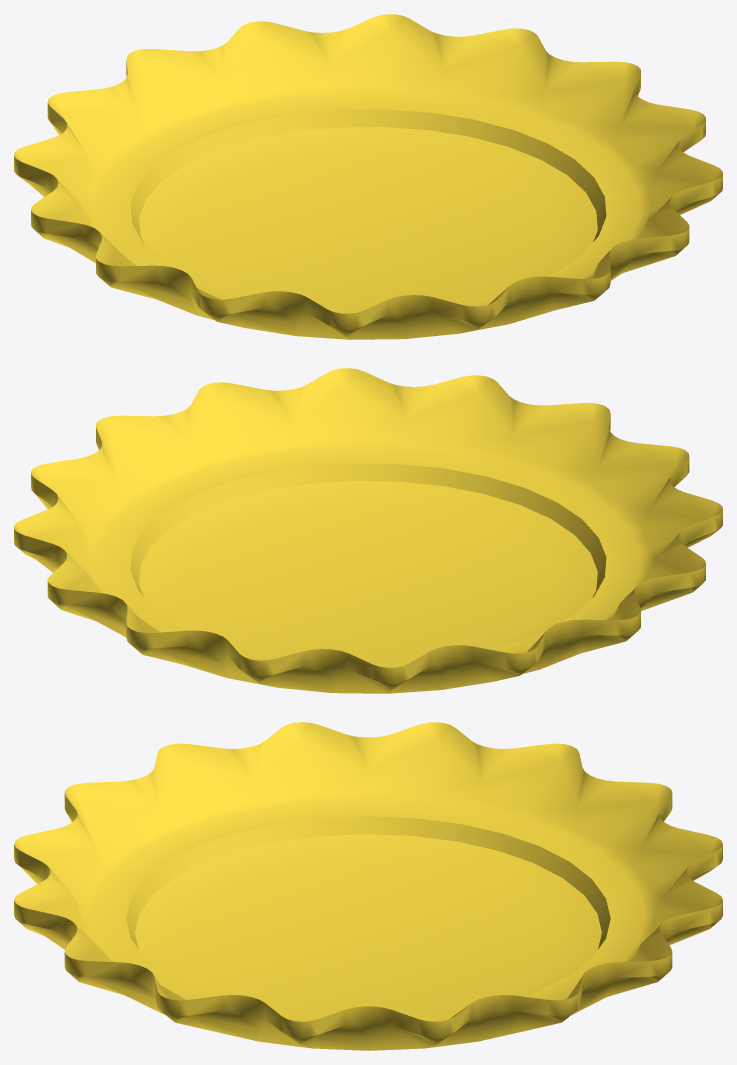
File: platoDescartable.fbx
3 renders of one model, top to bottom at view 1: azimuth 30°, elevation 25°; view 2: azimuth 150°, elevation 25°; view 3: azimuth 270°, elevation 25°, orthographic.
Visible parts, largest first — view 1: platoDescartable; view 2: platoDescartable; view 3: platoDescartable.
Boxes of the visible parts, box(x1,y1,x2,y2) form: platoDescartable: box(14, 14, 722, 339); platoDescartable: box(14, 368, 722, 693); platoDescartable: box(14, 722, 722, 1050).
Bounding box in the file's own units: 197 × 22.46 × 197.
